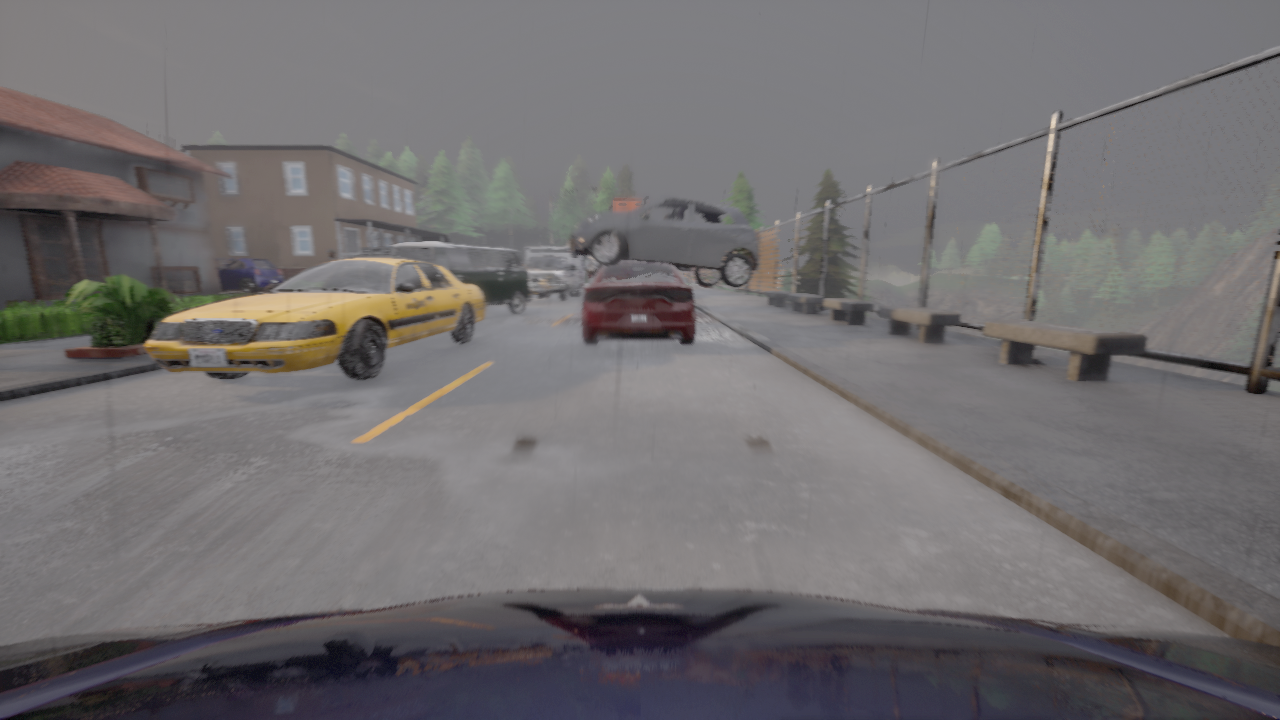cyclist: (0, 588, 1279, 719), (144, 248, 485, 380), (567, 198, 759, 287), (390, 242, 531, 314), (582, 261, 695, 343), (525, 246, 584, 301), (216, 258, 284, 294), (609, 195, 650, 211), (587, 272, 596, 279)
pedestrian: (327, 249, 338, 260)
